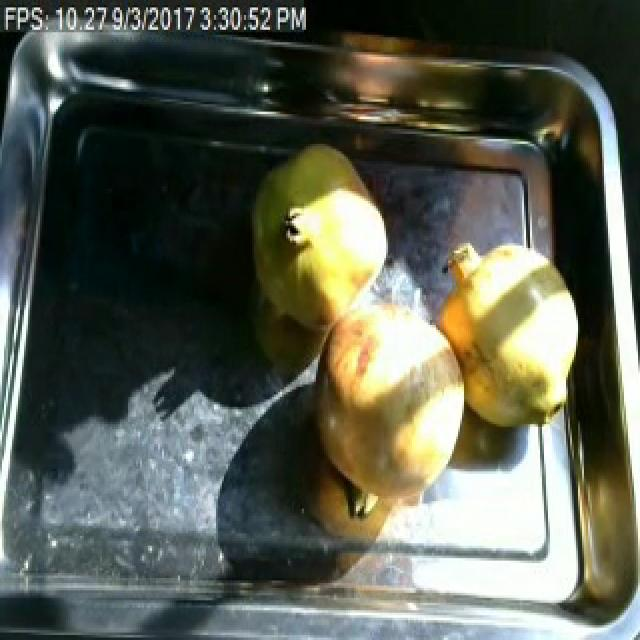fruit: (306, 295, 474, 531), (426, 236, 582, 442), (244, 134, 394, 340)
